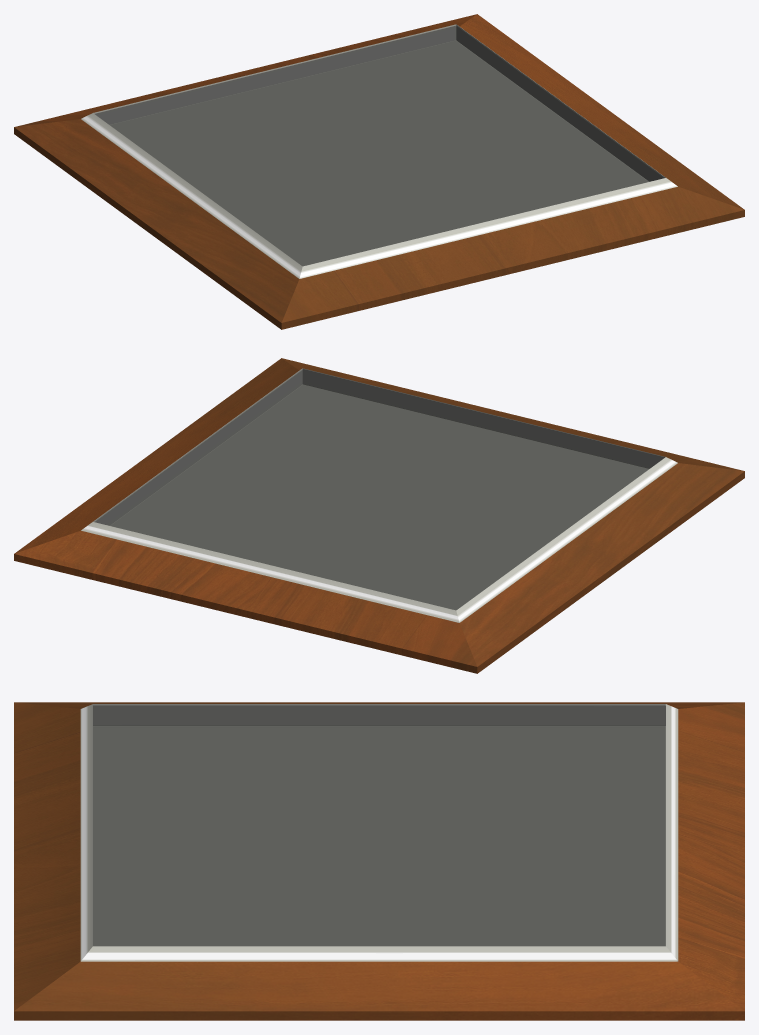
The model's file is PresurePlate.FBX.
The picture shows the model from 3 angles, top to bottom: view 1: azimuth 30°, elevation 25°; view 2: azimuth 150°, elevation 25°; view 3: azimuth 270°, elevation 25°; orthographic projection. The views are drawn at different scales.
Parts seen in each view (by area): view 1: Box001; view 2: Box001; view 3: Box001.
Boxes of the visible parts, bbox=[...] form: Box001: bbox=[14, 14, 744, 329]; Box001: bbox=[14, 358, 744, 673]; Box001: bbox=[14, 702, 744, 1020].
Size of the model in its own units: 128 by 7.9 by 128.
